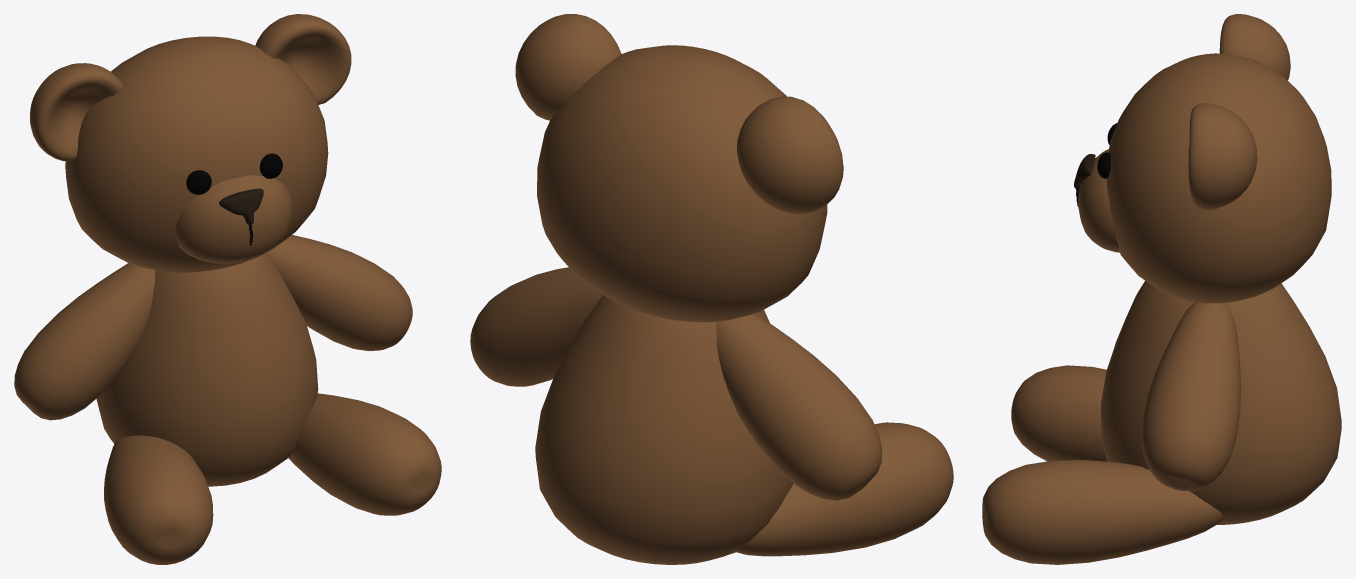
3 views of the same model, side by side, from view 1: azimuth 30°, elevation 25°; view 2: azimuth 150°, elevation 25°; view 3: azimuth 270°, elevation 25° (orthographic). The views are drawn at different scales.
Parts seen in each view (by area): view 1: bear.002-fabric_white, bear.002-eyes, bear.002-Nose.002; view 2: bear.002-fabric_white; view 3: bear.002-fabric_white.
Boxes of the visible parts, box(x1,y1,x2,y2) form: bear.002-fabric_white: box(14, 14, 441, 564); bear.002-eyes: box(186, 153, 282, 194); bear.002-Nose.002: box(219, 188, 263, 224); bear.002-fabric_white: box(470, 14, 953, 564); bear.002-fabric_white: box(982, 14, 1341, 564).
Size of the model in its own units: 313 by 362 by 258.
